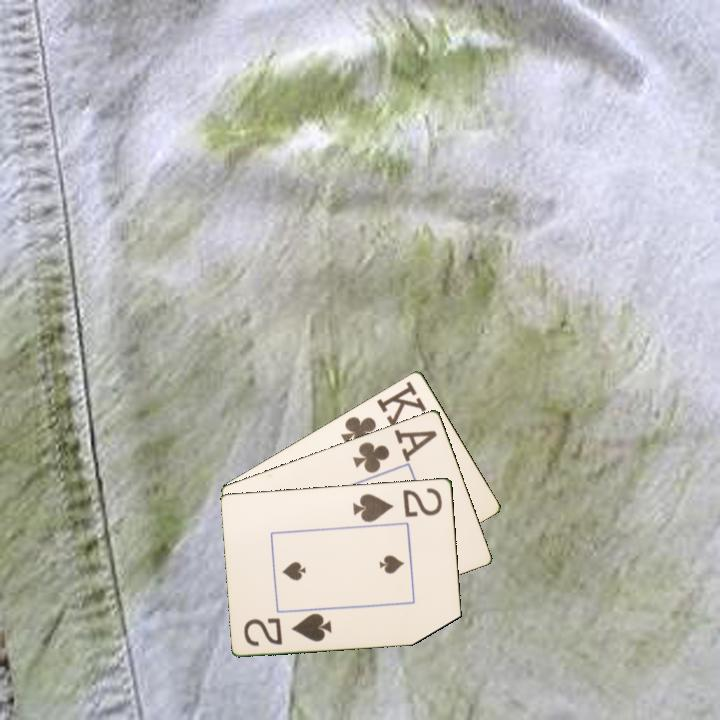2s: (350, 484, 445, 525), (240, 609, 335, 649)
Ac: (349, 425, 440, 476)
Kc: (337, 377, 429, 450)
